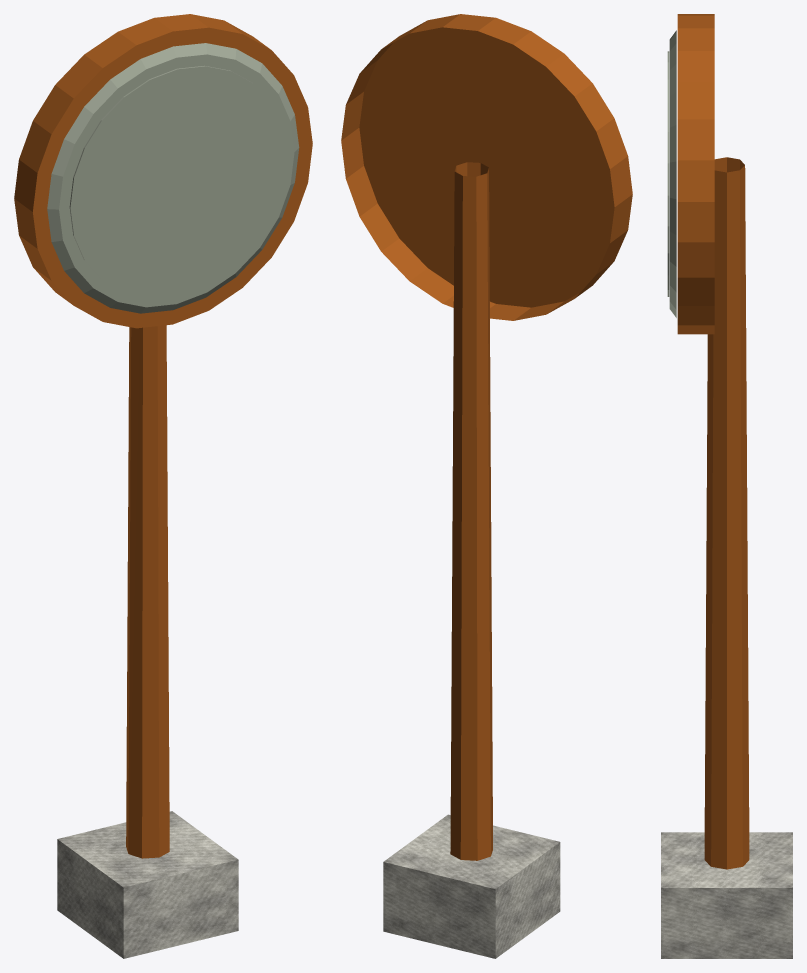
The model's file is valley-road-mirror.obj.
The picture shows the model from 3 angles, left to right: view 1: azimuth 30°, elevation 25°; view 2: azimuth 150°, elevation 25°; view 3: azimuth 270°, elevation 25°; orthographic projection. The views are drawn at different scales.
Size of the model in its own units: 0.78 by 2.41 by 0.32.
3 materials, 1 textured.
